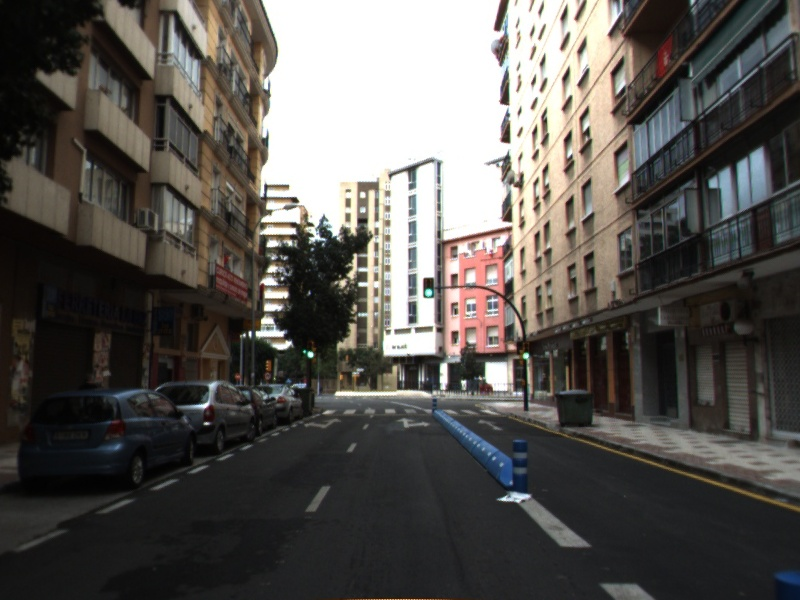STRAIGHT: (476, 418, 505, 432)
STRAIGHT_LEFT: (303, 416, 343, 430)
STRAIGHT_RIGHT: (394, 416, 432, 429)
